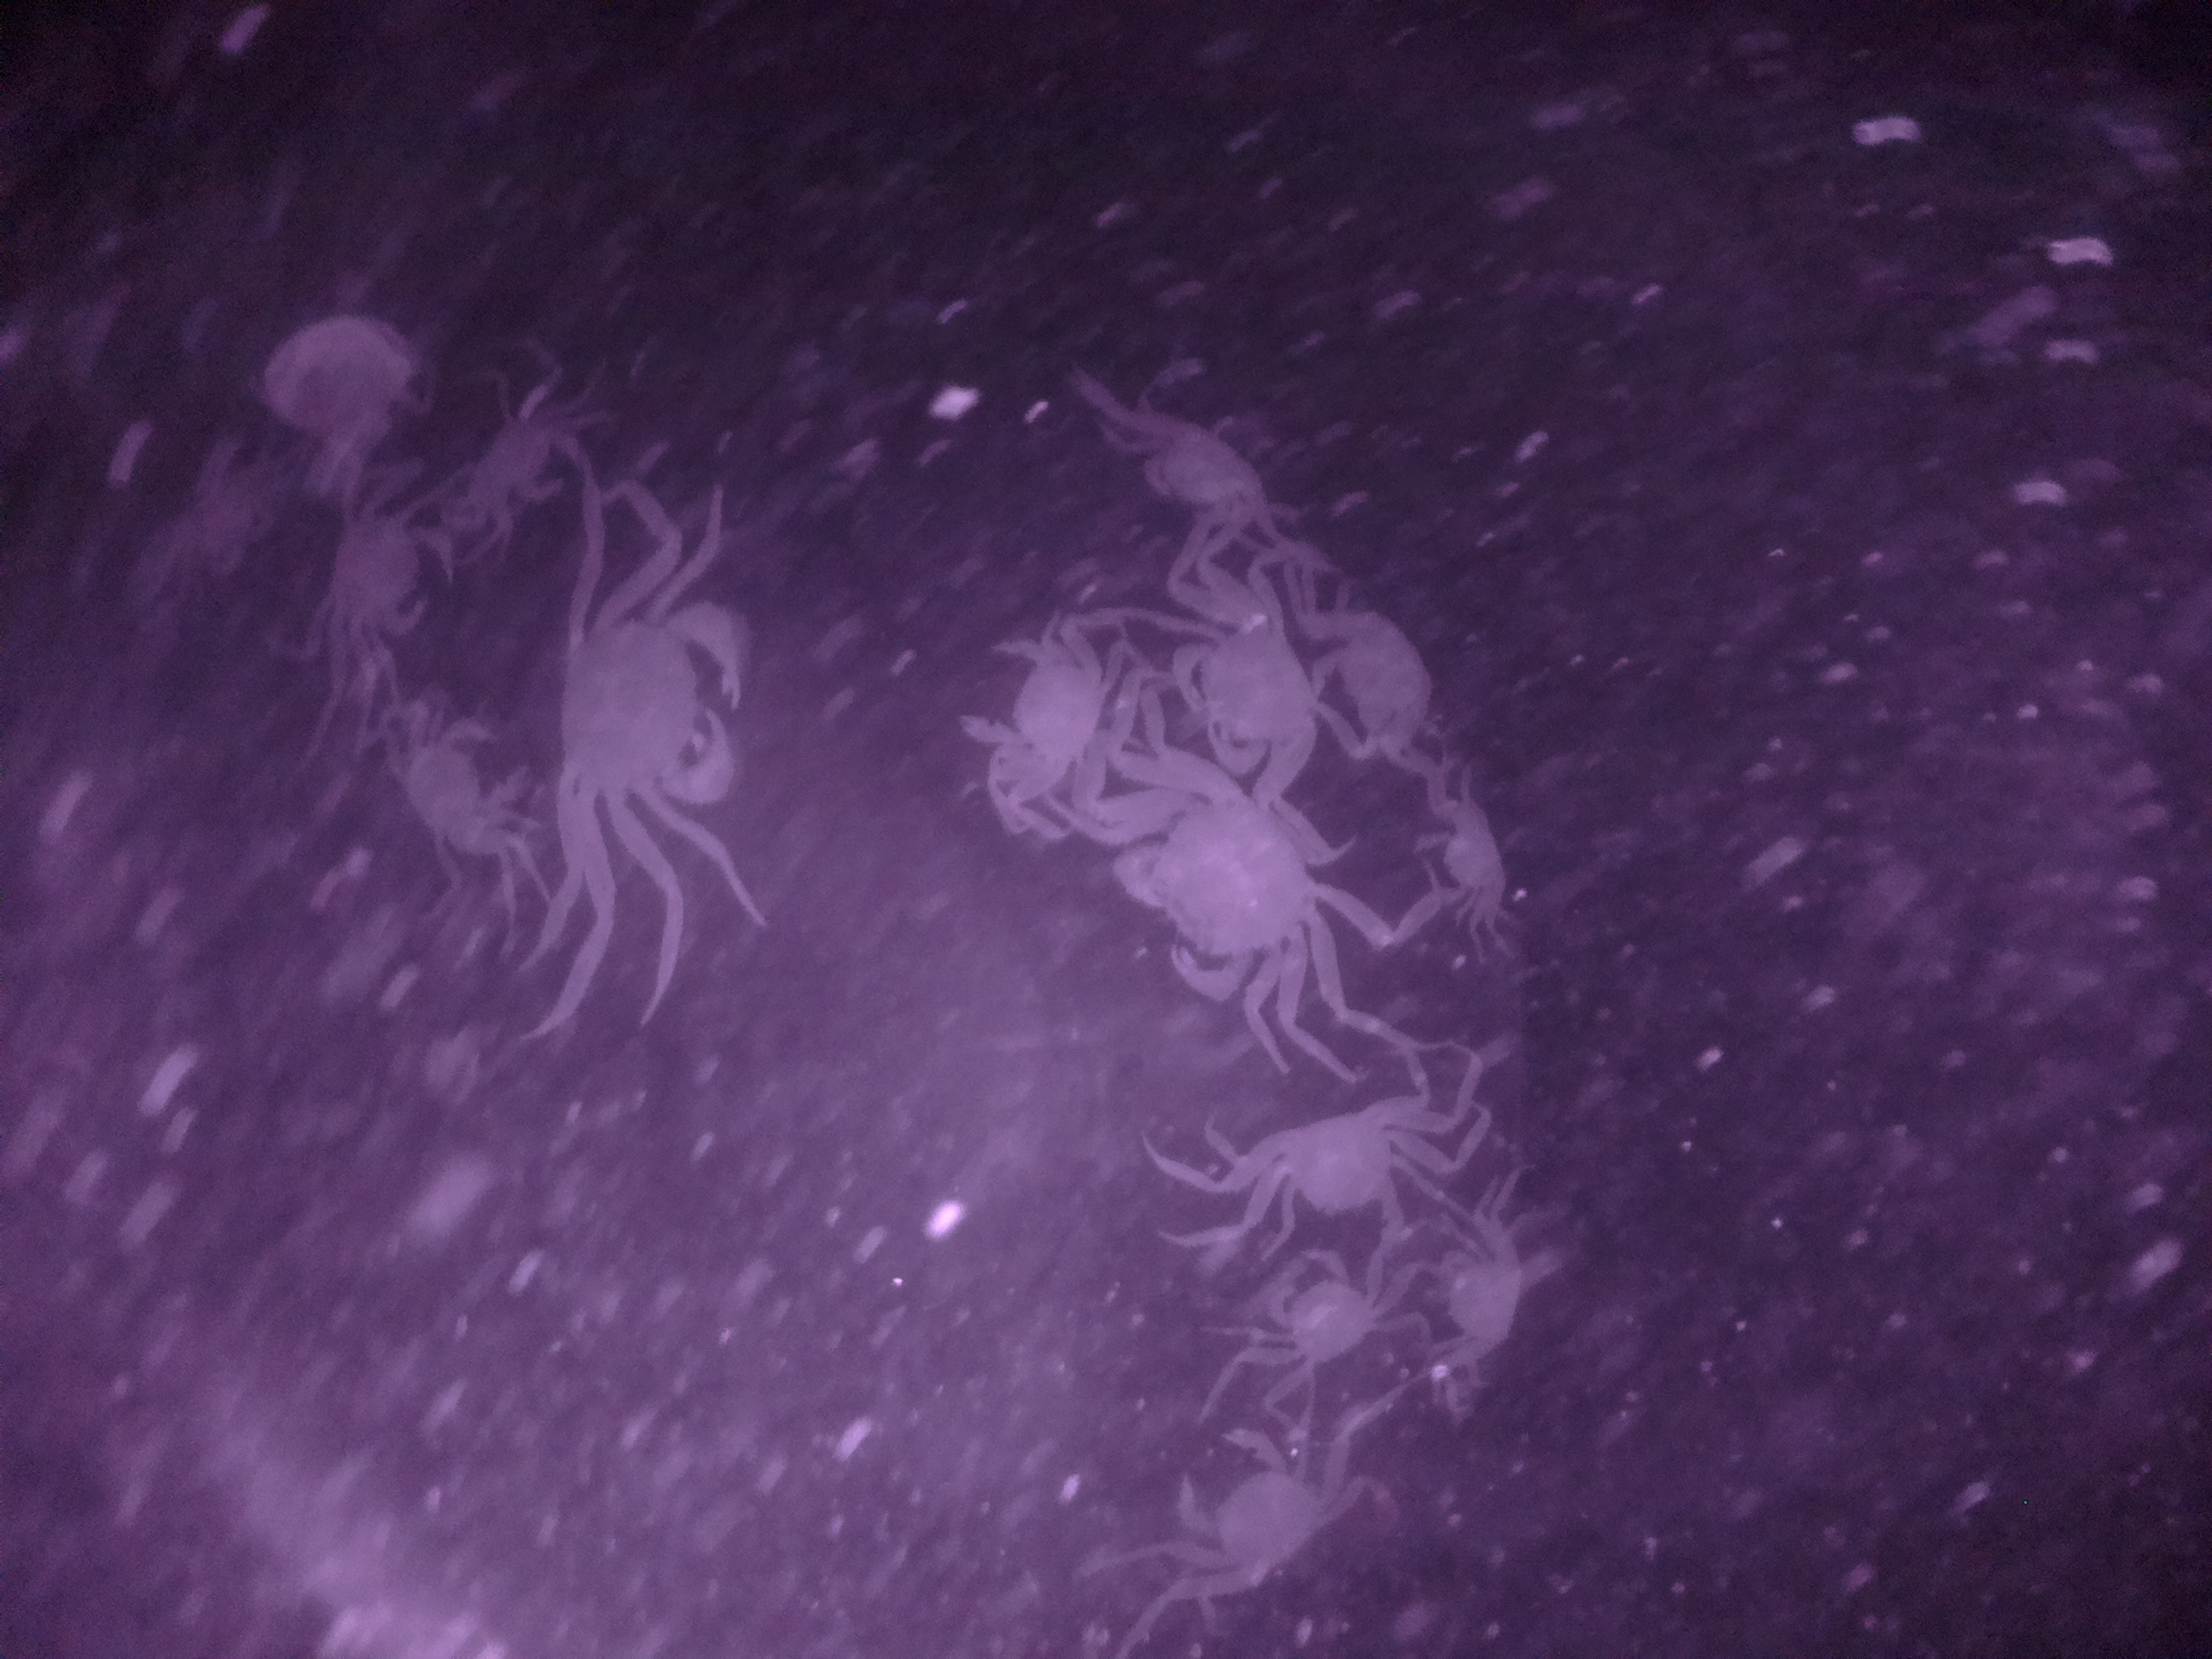Crab: (554, 575, 759, 882), (1109, 772, 1367, 986), (1134, 1424, 1360, 1607), (1157, 586, 1334, 803), (1205, 1082, 1446, 1243), (967, 606, 1118, 810), (1233, 1239, 1413, 1384), (314, 498, 462, 655), (1414, 796, 1524, 957)
